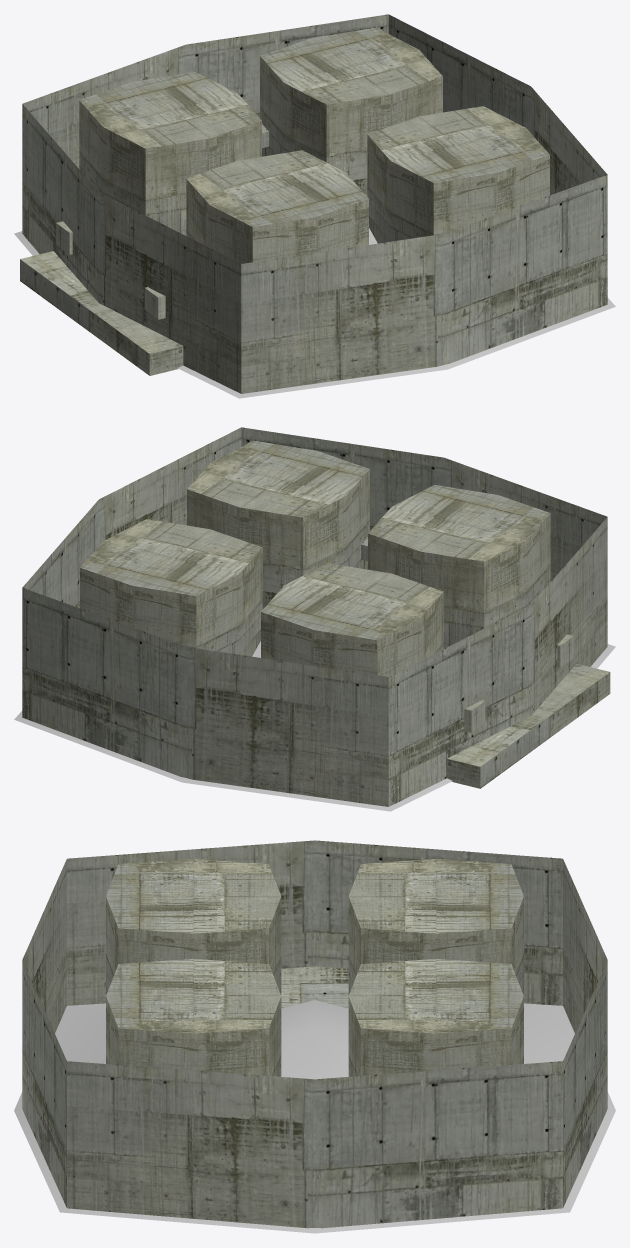
File: SM_LDFest_07_SHADOW.fbx
3 views of the same model, one above another, from view 1: azimuth 30°, elevation 25°; view 2: azimuth 150°, elevation 25°; view 3: azimuth 270°, elevation 25° (orthographic). The views are drawn at different scales.
Parts seen in each view (by area): view 1: SM_LDFest_07_SHADOW, SM_LDFest_01_SHADOW; view 2: SM_LDFest_07_SHADOW, SM_LDFest_01_SHADOW; view 3: SM_LDFest_07_SHADOW, SM_LDFest_01_SHADOW.
Part boxes in pixels (left/top/right/bottom): SM_LDFest_07_SHADOW: left=20, top=14, right=607, bottom=393; SM_LDFest_01_SHADOW: left=14, top=228, right=615, bottom=398; SM_LDFest_07_SHADOW: left=22, top=427, right=610, bottom=806; SM_LDFest_01_SHADOW: left=14, top=641, right=615, bottom=811; SM_LDFest_07_SHADOW: left=22, top=840, right=607, bottom=1228; SM_LDFest_01_SHADOW: left=14, top=1000, right=615, bottom=1233.
Bounding box in the file's own units: 3838 × 1187 × 3904.
